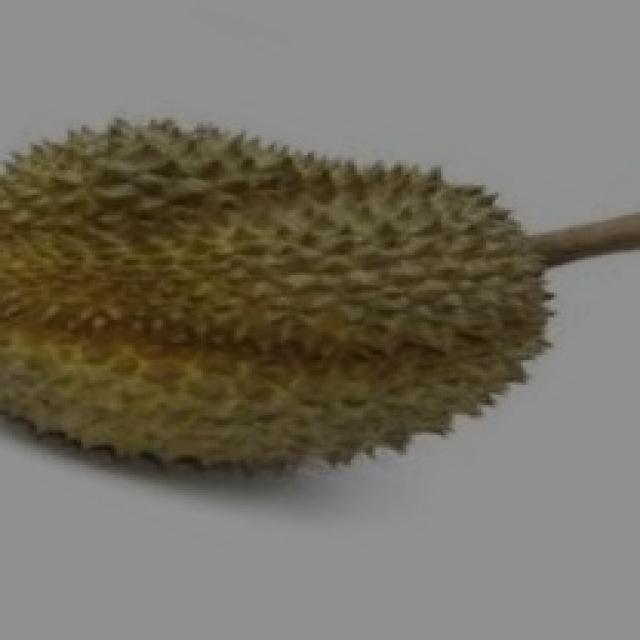fruit: (0, 95, 357, 533), (246, 122, 591, 518)
